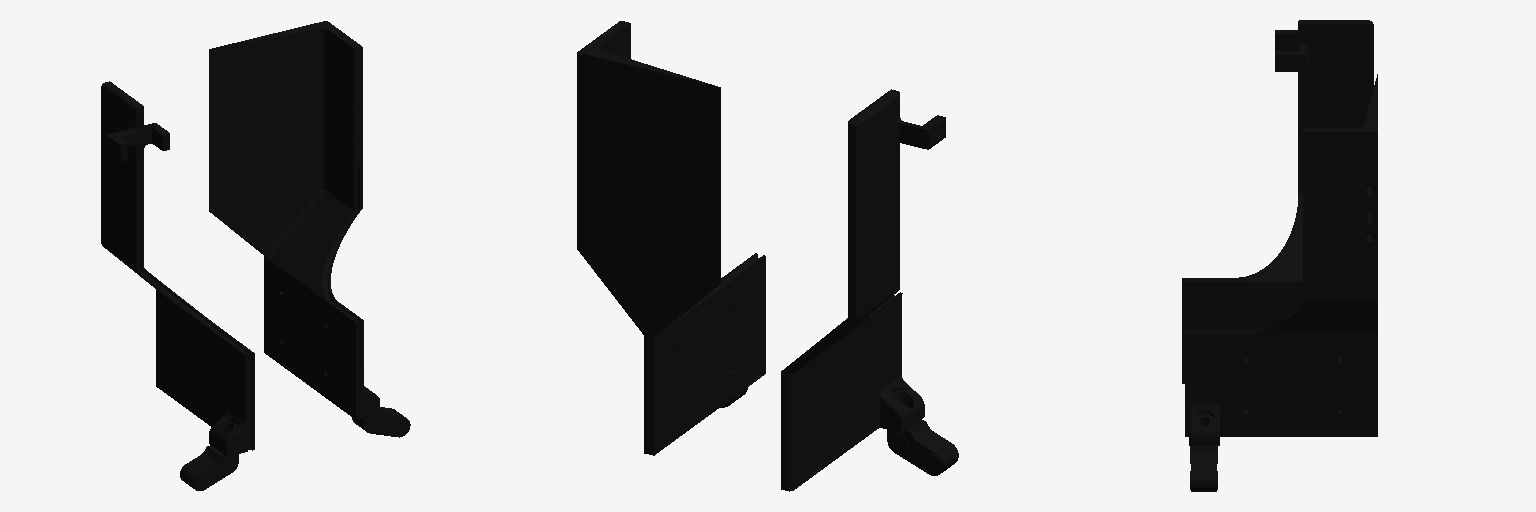
URDF robot description (robotiq_arg85_description-master):
<robot
  name="robotiq_arg85_description-master">
  <link
    name="robotiq_85_base_link">
    <inertial>
      <origin
        xyz="0.00021987 -2.3546E-10 0.030163"
        rpy="0 0 0" />
      <mass
        value="0.30915" />
      <inertia
        ixx="0.00028972"
        ixy="-5.7879E-10"
        ixz="-1.8543E-06"
        iyy="0.00030737"
        iyz="1.682E-12"
        izz="0.00019914" />
    </inertial>
    <visual>
      <origin
        xyz="0 0 0"
        rpy="0 0 0" />
      <geometry>
        <mesh
          filename="package://technion/meshes/robotiq_85_base_link_fine.STL" />
      </geometry>
      <material
        name="">
        <color
          rgba="0.1 0.1 0.1 1" />
      </material>
    </visual>
    <collision>
      <origin
        xyz="0 0 0"
        rpy="0 0 0" />
      <geometry>
        <mesh
          filename="package://technion/meshes/robotiq_85_base_link_coarse.STL" />
      </geometry>
    </collision>
  </link>
  <link
    name="left_outer_knuckle">
    <inertial>
      <origin
        xyz="0.0178331863169983 3.68915177224286E-11 0.0021442477325704"
        rpy="0 0 0" />
      <mass
        value="0.00684838849434396" />
      <inertia
        ixx="2.66832029033166E-07"
        ixy="1.66142314639824E-15"
        ixz="1.45945633322873E-07"
        iyy="1.3889233257419E-06"
        iyz="2.82951161241588E-15"
        izz="1.26603336914415E-06" />
    </inertial>
    <visual>
      <origin
        xyz="0 0 0"
        rpy="0 0 0" />
      <geometry>
        <mesh
          filename="package://technion/meshes/outer_knuckle_fine.STL" />
      </geometry>
      <material
        name="">
        <color
          rgba="0.1 0.1 0.1 1" />
      </material>
    </visual>
    <collision>
      <origin
        xyz="0 0 0"
        rpy="0 0 0" />
      <geometry>
        <mesh
          filename="package://technion/meshes/outer_knuckle_coarse.STL" />
      </geometry>
    </collision>
  </link>
  <joint
    name="finger_joint"
    type="revolute">
    <origin
      xyz="0.0306011444260539 0 0.0627920162695395"
      rpy="0 0 0" />
    <parent
      link="robotiq_85_base_link" />
    <child
      link="left_outer_knuckle" />
    <axis
      xyz="0 -1 0" />
    <limit
	  lower="0"
      upper="0.725"
      velocity="2.0"
      effort="1000" />
  </joint>
  <link
    name="left_outer_finger">
    <inertial>
      <origin
        xyz="0.00131451599174296 2.88942057994543E-15 0.0215404163180413"
        rpy="0 0 0" />
      <mass
        value="0.0273093985570947" />
      <inertia
        ixx="8.51629628283022E-06"
        ixy="2.58174336207405E-19"
        ixz="3.83829504344079E-07"
        iyy="6.9133328065108E-06"
        iyz="-7.58589926143789E-19"
        izz="2.25006832221981E-06" />
    </inertial>
    <visual>
      <origin
        xyz="0 0 0"
        rpy="0 0 0" />
      <geometry>
        <mesh
          filename="package://technion/meshes/outer_finger_fine.STL" />
      </geometry>
      <material
        name="">
        <color
          rgba="0.1 0.1 0.1 1" />
      </material>
    </visual>
    <collision>
      <origin
        xyz="0 0 0"
        rpy="0 0 0" />
      <geometry>
        <mesh
          filename="package://technion/meshes/outer_finger_coarse.STL" />
      </geometry>
    </collision>
  </link>
  <joint
    name="left_outer_finger_joint"
    type="fixed">
    <origin
      xyz="0.0316910442266543 0 -0.00193396375724605"
      rpy="0 0 0" />
    <parent
      link="left_outer_knuckle" />
    <child
      link="left_outer_finger" />
    <axis
      xyz="0 -1 0" />
  </joint>
  <link
    name="left_inner_knuckle">
    <inertial>
      <origin
        xyz="0.017097546626628 -3.93808524389535E-10 0.0224918438201868"
        rpy="0 0 0" />
      <mass
        value="0.0110930853895903" />
      <inertia
        ixx="4.23392770691541E-06"
        ixy="5.748978936968E-15"
        ixz="1.78855677119788E-06"
        iyy="3.96548790524392E-06"
        iyz="1.05464666369669E-14"
        izz="3.24068002883007E-06" />
    </inertial>
    <visual>
      <origin
        xyz="0 0 0"
        rpy="0 0 0" />
      <geometry>
        <mesh
          filename="package://technion/meshes/inner_knuckle_fine.STL" />
      </geometry>
      <material
        name="">
        <color
          rgba="0.1 0.1 0.1 1" />
      </material>
    </visual>
    <collision>
      <origin
        xyz="0 0 0"
        rpy="0 0 0" />
      <geometry>
        <mesh
          filename="package://technion/meshes/inner_knuckle_coarse.STL" />
      </geometry>
    </collision>
  </link>
  <joint
    name="left_inner_knuckle_joint"
    type="revolute">
    <origin
      xyz="0.0127000000001501 0 0.0693074999999639"
      rpy="0 0 0" />
    <parent
      link="robotiq_85_base_link" />
    <child
      link="left_inner_knuckle" />
    <axis
      xyz="0 -1 0" />
    <limit
      lower="0"
      upper="0.8757"
      velocity="2.0"
      effort="1000" />
    <mimic 
      joint="finger_joint"
      multiplier="1"
      offset="0" />
  </joint>
  <link
    name="left_inner_finger">
    <inertial>
      <origin
        xyz="0.0060275613594574 -6.29183141465421E-15 0.00669925693133241"
        rpy="0 0 0" />
      <mass
        value="0.00724255346165745" />
      <inertia
        ixx="1.47824274053603E-06"
        ixy="-3.94884463570303E-19"
        ixz="-3.45268847648622E-07"
        iyy="1.70064480838395E-06"
        iyz="3.5059838910097E-19"
        izz="4.77151336838364E-07" />
    </inertial>
    <visual>
      <origin
        xyz="0 0 0"
        rpy="0 0 0" />
      <geometry>
        <mesh
          filename="package://technion/meshes/assy_right.STL" />
      </geometry>
      <material
        name="">
        <color
          rgba="0.1 0.1 0.1 1" />
      </material>
    </visual>
    <collision>
      <origin
        xyz="0 0 0"
        rpy="0 0 0" />
      <geometry>
        <mesh
          filename="package://technion/meshes/assy_right.STL" />
      </geometry>
    </collision>
  </link>
  <joint
    name="left_inner_finger_joint"
    type="revolute">
    <origin
      xyz="0.034585310861294 0 0.0454970193817975"
      rpy="0 0 0" />
    <parent
      link="left_inner_knuckle" />
    <child
      link="left_inner_finger" />
    <axis
      xyz="0 -1 0" />
    <limit
      lower="0"
      upper="0.8757"
      velocity="2.0"
      effort="1000" />
    <mimic 
      joint="finger_joint"
      multiplier="-1"
      offset="0" />
  </joint>
  <link
    name="right_inner_knuckle">
    <inertial>
      <origin
        xyz="0.0168606186773776 3.93808471820465E-10 0.0226699950793434"
        rpy="0 0 0" />
      <mass
        value="0.0110930853895903" />
      <inertia
        ixx="4.27134775939882E-06"
        ixy="-8.53568456728898E-15"
        ixz="1.77774229944246E-06"
        iyy="3.96548790524392E-06"
        iyz="-8.45108024914164E-15"
        izz="3.20325997634666E-06" />
    </inertial>
    <visual>
      <origin
        xyz="0 0 0"
        rpy="0 0 0" />
      <geometry>
        <mesh
          filename="package://technion/meshes/inner_knuckle_fine.STL" />
      </geometry>
      <material
        name="">
        <color
          rgba="0.1 0.1 0.1 1" />
      </material>
    </visual>
    <collision>
      <origin
        xyz="0 0 0"
        rpy="0 0 0" />
      <geometry>
        <mesh
          filename="package://technion/meshes/inner_knuckle_coarse.STL" />
      </geometry>
    </collision>
  </link>
  <joint
    name="right_inner_knuckle_joint"
    type="revolute">
    <origin
      xyz="-0.0126999999998499 0 0.0693075000000361"
      rpy="0 0 3.14159265358979" />
    <parent
      link="robotiq_85_base_link" />
    <child
      link="right_inner_knuckle" />
    <axis
      xyz="0 1 0" />
    <limit
      lower="0"
      upper="0.8757"
      velocity="2.0"
      effort="1000" />
    <mimic 
      joint="finger_joint"
      multiplier="-1"
      offset="0" />
  </joint>
  <link
    name="right_inner_finger">
    <inertial>
      <origin
        xyz="0.00602756228812038 -6.47284509480176E-15 0.00669925609578108"
        rpy="0 0 0" />
      <mass
        value="0.00724255346165744" />
      <inertia
        ixx="1.47824283625957E-06"
        ixy="-3.95952064019123E-19"
        ixz="-3.45268708875543E-07"
        iyy="1.70064480838394E-06"
        iyz="3.55286507960029E-19"
        izz="4.77151241114822E-07" />
    </inertial>
    <visual>
      <origin
        xyz="0 0 0"
        rpy="0 0 0" />
      <geometry>
        <mesh
          filename="package://technion/meshes/assy_left.STL" />
      </geometry>
      <material
        name="">
        <color
          rgba="0.1 0.1 0.1 1" />
      </material>
    </visual>
    <collision>
      <origin
        xyz="0 0 0"
        rpy="0 0 0" />
      <geometry>
        <mesh
          filename="package://technion/meshes/assy_left.STL" />
      </geometry>
    </collision>
  </link>
  <joint
    name="right_inner_finger_joint"
    type="revolute">
    <origin
      xyz="0.0341060475457406 0 0.0458573878541688"
      rpy="0 0 0" />
    <parent
      link="right_inner_knuckle" />
    <child
      link="right_inner_finger" />
    <axis
      xyz="0 1 0" />
    <limit
      lower="0"
      upper="0.8757"
      velocity="2.0"
      effort="1000" />
    <mimic 
      joint="finger_joint"
      multiplier="1"
      offset="0" />
  </joint>
  <link
    name="right_outer_knuckle">
    <inertial>
      <origin
        xyz="0.0178097074051638 3.60493211424024E-11 0.00233123458346721"
        rpy="0 0 0" />
      <mass
        value="0.00684838849401352" />
      <inertia
        ixx="2.70004361573169E-07"
        ixy="1.59579467624491E-15"
        ixz="1.56396493788199E-07"
        iyy="1.38892332558312E-06"
        iyz="2.82357800318817E-15"
        izz="1.26286103637978E-06" />
    </inertial>
    <visual>
      <origin
        xyz="0 0 0"
        rpy="0 0 0" />
      <geometry>
        <mesh
          filename="package://technion/meshes/outer_knuckle_fine.STL" />
      </geometry>
      <material
        name="">
        <color
          rgba="0.1 0.1 0.1 1" />
      </material>
    </visual>
    <collision>
      <origin
        xyz="0 0 0"
        rpy="0 0 0" />
      <geometry>
        <mesh
          filename="package://technion/meshes/outer_knuckle_coarse.STL" />
      </geometry>
    </collision>
  </link>
  <joint
    name="right_outer_knuckle_joint"
    type="revolute">
    <origin
      xyz="-0.0306011444258893 0 0.0627920162695395"
      rpy="0 0 3.14159265358979" />
    <parent
      link="robotiq_85_base_link" />
    <child
      link="right_outer_knuckle" />
    <axis
      xyz="0 1 0" />
    <limit
      lower="0"
      upper="0.8757"
      velocity="2.0"
      effort="1000" />
    <mimic 
      joint="finger_joint"
      multiplier="-1"
      offset="0" />
  </joint>
  <link
    name="right_outer_finger">
    <inertial>
      <origin
        xyz="0.00108844269639009 -2.611488350845E-15 0.0215530225245502"
        rpy="0 0 0" />
      <mass
        value="0.0273093985570947" />
      <inertia
        ixx="8.52366028592721E-06"
        ixy="3.41683380899422E-19"
        ixz="3.18003675694284E-07"
        iyy="6.91333280651081E-06"
        iyz="7.37726682706417E-19"
        izz="2.24270431912283E-06" />
    </inertial>
    <visual>
      <origin
        xyz="0 0 0"
        rpy="0 0 0" />
      <geometry>
        <mesh
          filename="package://technion/meshes/outer_finger_fine.STL" />
      </geometry>
      <material
        name="">
        <color
          rgba="0.1 0.1 0.1 1" />
      </material>
    </visual>
    <collision>
      <origin
        xyz="0 0 0"
        rpy="0 0 0" />
      <geometry>
        <mesh
          filename="package://technion/meshes/outer_finger_coarse.STL" />
      </geometry>
    </collision>
  </link>
  <joint
    name="right_outer_finger_joint"
    type="fixed">
    <origin
      xyz="0.0317095909367246 0 -0.0016013564954687"
      rpy="0 0 0" />
    <parent
      link="right_outer_knuckle" />
    <child
      link="right_outer_finger" />
    <axis
      xyz="0 1 0" />
  </joint>
</robot>

--- Facts derived from the render (not from the file) ---
3 views of the same robot in one strip: view 1: azimuth 30°, elevation 25°; view 2: azimuth 150°, elevation 25°; view 3: azimuth 270°, elevation 25° (orthographic).
Model robotiq_arg85_description-master with 9 links and 8 joints (6 revolute, 2 fixed), rooted at robotiq_85_base_link, posed every joint at zero.
Visible links, largest first — view 1: left_inner_finger, right_inner_finger; view 2: left_inner_finger, right_inner_finger; view 3: left_inner_finger, right_inner_finger.
Boxes of the visible links, bbox=[...] form: left_inner_finger: bbox=[209, 21, 410, 437]; right_inner_finger: bbox=[101, 81, 254, 490]; left_inner_finger: bbox=[577, 21, 765, 455]; right_inner_finger: bbox=[781, 89, 958, 491]; left_inner_finger: bbox=[1185, 74, 1377, 491]; right_inner_finger: bbox=[1182, 20, 1373, 383].
Bounding box of the posed robot: 0.1646 × 0.1045 × 0.2176 m (x, y, z).
Meshes: 6 distinct files referenced, 2 mesh visuals loaded (2 binary STL); not drawn: 7 (reference not matched to a file when rendering).